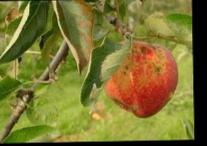rotten apple: (100, 37, 183, 118)
